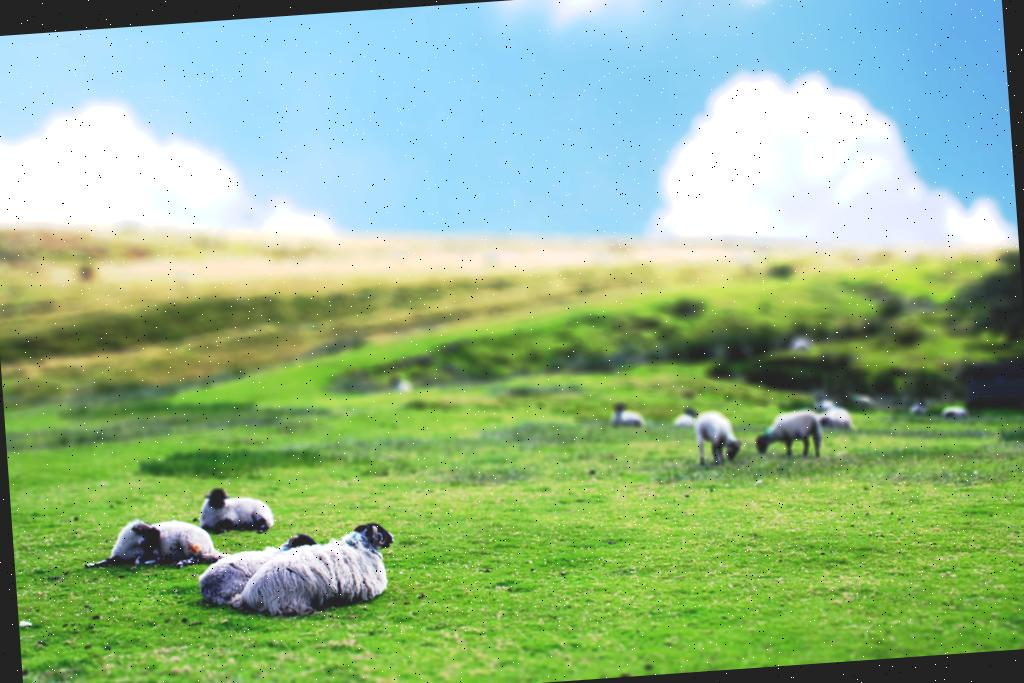Sheep: (226, 520, 396, 616), (202, 532, 318, 618), (78, 512, 232, 576), (750, 407, 826, 466), (198, 484, 275, 535), (690, 409, 738, 473), (608, 398, 653, 430)
